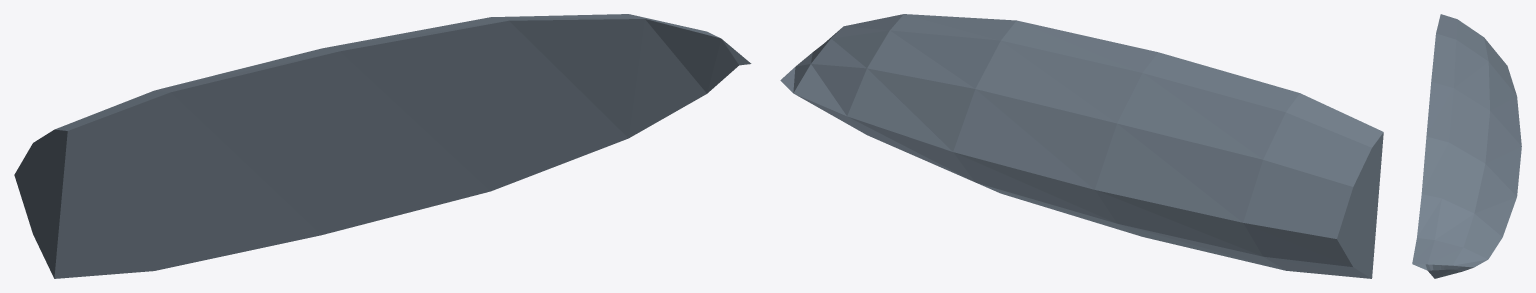
The model's file is hull.obj.
3 views of the same model, side by side, from view 1: azimuth 30°, elevation 25°; view 2: azimuth 150°, elevation 25°; view 3: azimuth 270°, elevation 25° (orthographic). The views are drawn at different scales.
Parts seen in each view (by area): view 1: hull; view 2: hull; view 3: hull.
Boxes of the visible parts, x1,y1,x2,y2 form: hull: [14, 14, 751, 278]; hull: [780, 14, 1383, 278]; hull: [1412, 14, 1521, 278].
Size of the model in its own units: 1 by 0.285 by 0.23.
